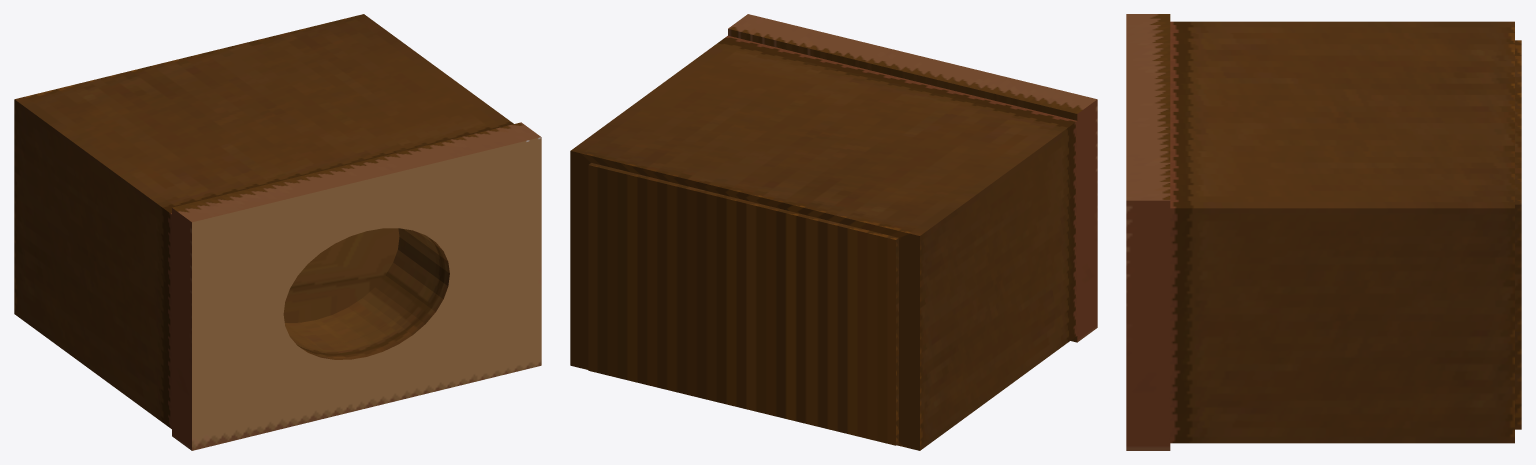
Rendered from pz_counter_oak_floor__sink_inset_oval.obj.
3 renders of one model, left to right at view 1: azimuth 30°, elevation 25°; view 2: azimuth 150°, elevation 25°; view 3: azimuth 270°, elevation 25°, orthographic. The views are drawn at different scales.
Size of the model in its own units: 1 by 0.6266 by 0.895.
1 material, 1 textured.
